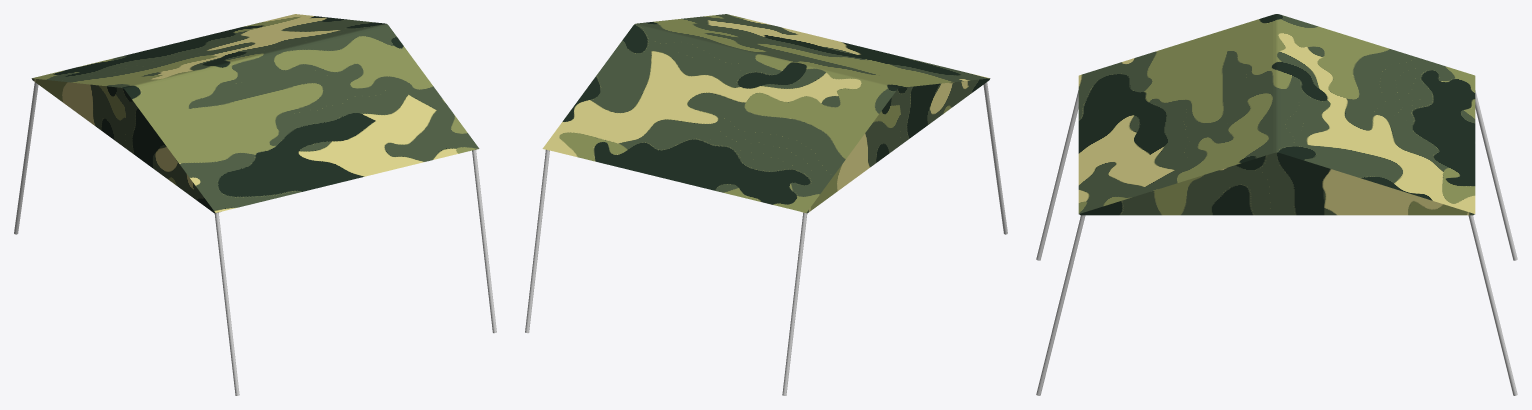
The model's file is Tent.fbx.
3 renders of one model, left to right at view 1: azimuth 30°, elevation 25°; view 2: azimuth 150°, elevation 25°; view 3: azimuth 270°, elevation 25°, orthographic. The views are drawn at different scales.
Visible parts, largest first — view 1: Tent; view 2: Tent; view 3: Tent.
Part boxes in pixels (<box>): Tent: <box>14,14,496,395</box>; Tent: <box>525,14,1007,395</box>; Tent: <box>1036,14,1517,395</box>.
Size of the model in its own units: 820 by 674 by 1203.
